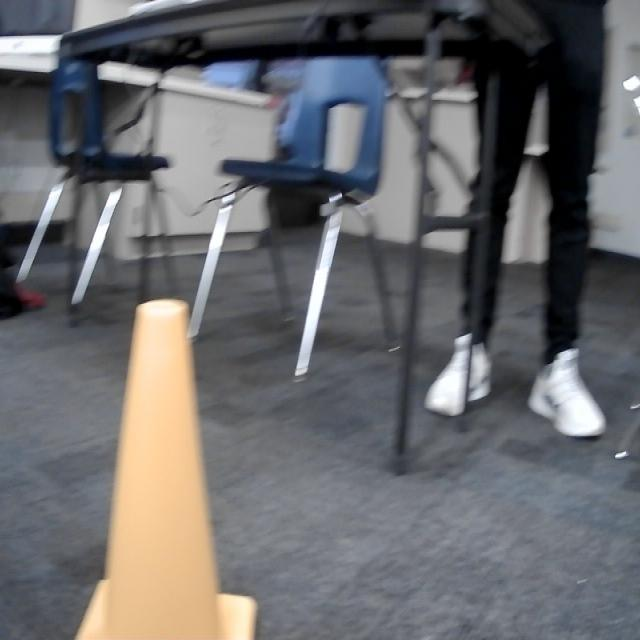cone: (78, 296, 262, 640)
